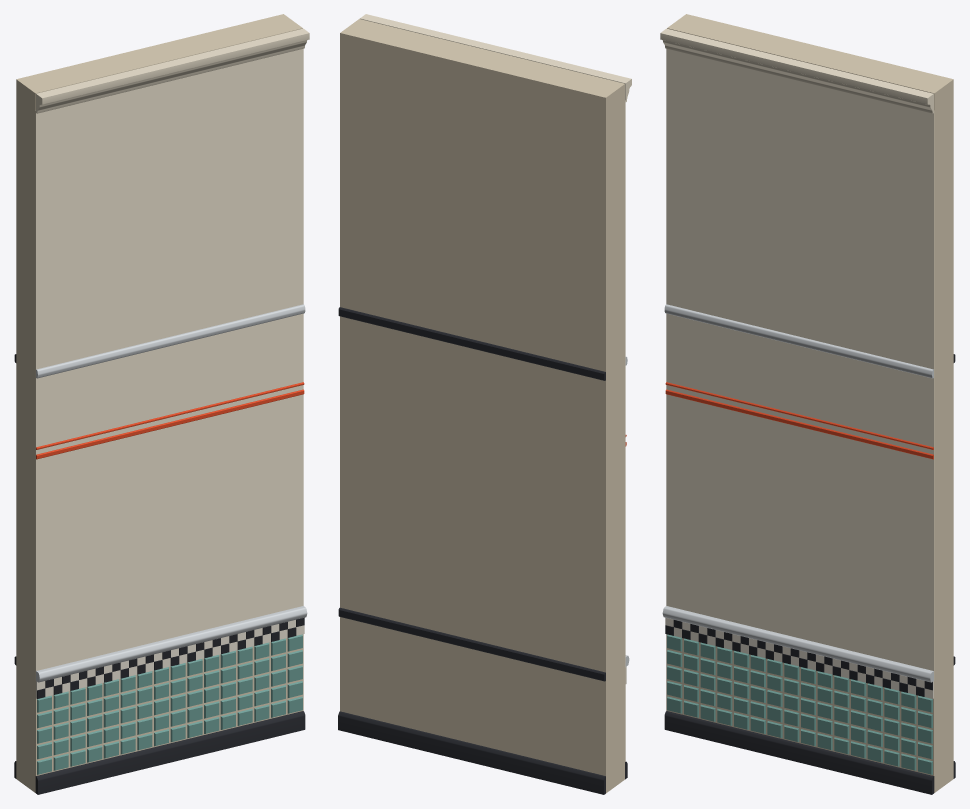
Rendered from Shop_WallTall.fbx.
3 views of the same model, side by side, from view 1: azimuth 30°, elevation 25°; view 2: azimuth 150°, elevation 25°; view 3: azimuth 330°, elevation 25° (orthographic).
Visible parts, largest first — view 1: Upper, Core, Tiles, ChairRail, Baseboard, Grout, CheckerDark, CheckerLight, Stripe; view 2: Core, BackBase, BackBand, Upper; view 3: Upper, Core, Tiles, ChairRail, Baseboard, Grout, CheckerDark, CheckerLight, Stripe.
Part boxes in pixels (box(x1,y1,x2,y2)): Upper: box(35, 28, 309, 680); Core: box(16, 14, 302, 792); Tiles: box(37, 634, 302, 774); ChairRail: box(36, 304, 307, 682); Baseboard: box(35, 711, 305, 794); Grout: box(35, 634, 303, 775); CheckerDark: box(37, 617, 304, 698); CheckerLight: box(36, 620, 304, 698); Stripe: box(36, 382, 304, 459); Core: box(340, 19, 624, 793); BackBase: box(338, 711, 605, 794); BackBand: box(338, 307, 605, 681); Upper: box(359, 14, 631, 667); Upper: box(660, 28, 934, 680); Core: box(667, 14, 953, 792); Tiles: box(667, 634, 932, 774); ChairRail: box(662, 304, 933, 682); Baseboard: box(664, 711, 934, 794); Grout: box(666, 634, 934, 775); CheckerDark: box(665, 620, 932, 696); CheckerLight: box(665, 617, 933, 698); Stripe: box(665, 382, 933, 459).
Bounding box in the file's own units: 800 × 2000 × 145.
